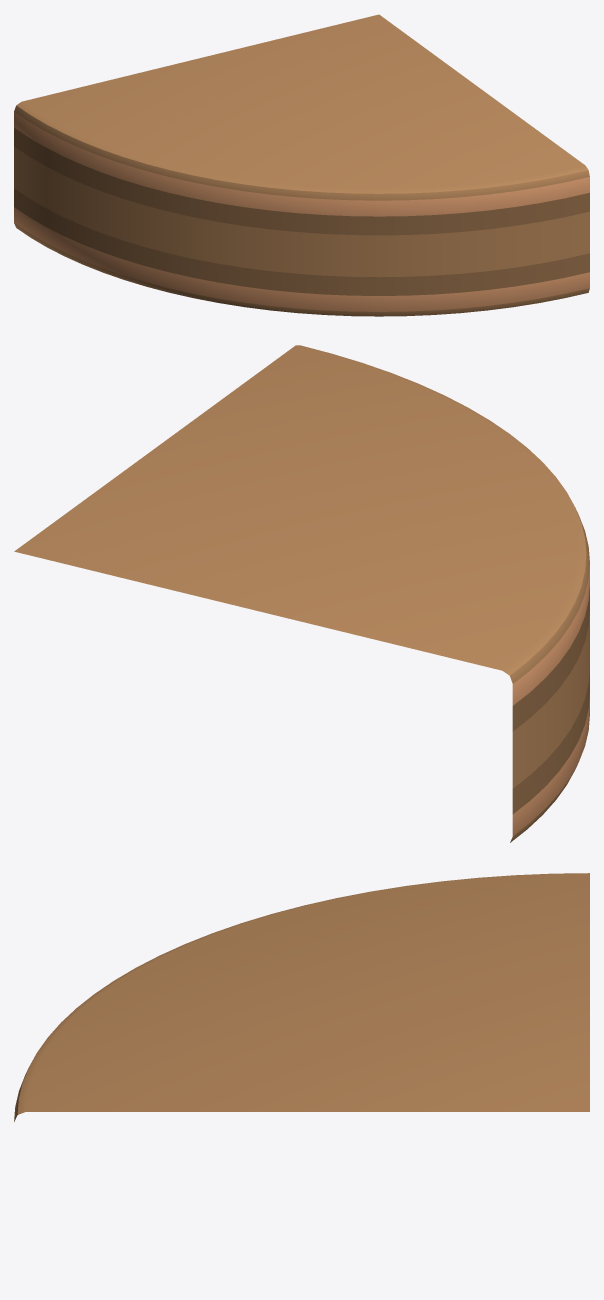
The model's file is platform_dirt_corner_round3.gltf.
3 views of the same model, one above another, from view 1: azimuth 30°, elevation 25°; view 2: azimuth 150°, elevation 25°; view 3: azimuth 270°, elevation 25° (orthographic). The views are drawn at different scales.
Visible parts, largest first — view 1: Cube_Dirt_Corner_Round3; view 2: Cube_Dirt_Corner_Round3; view 3: Cube_Dirt_Corner_Round3.
Boxes of the visible parts, x1=… form: Cube_Dirt_Corner_Round3: x1=14, y1=14, x2=589, y2=316; Cube_Dirt_Corner_Round3: x1=14, y1=345, x2=589, y2=842; Cube_Dirt_Corner_Round3: x1=14, y1=873, x2=589, y2=1121.
Size of the model in its own units: 6 by 2 by 6.
